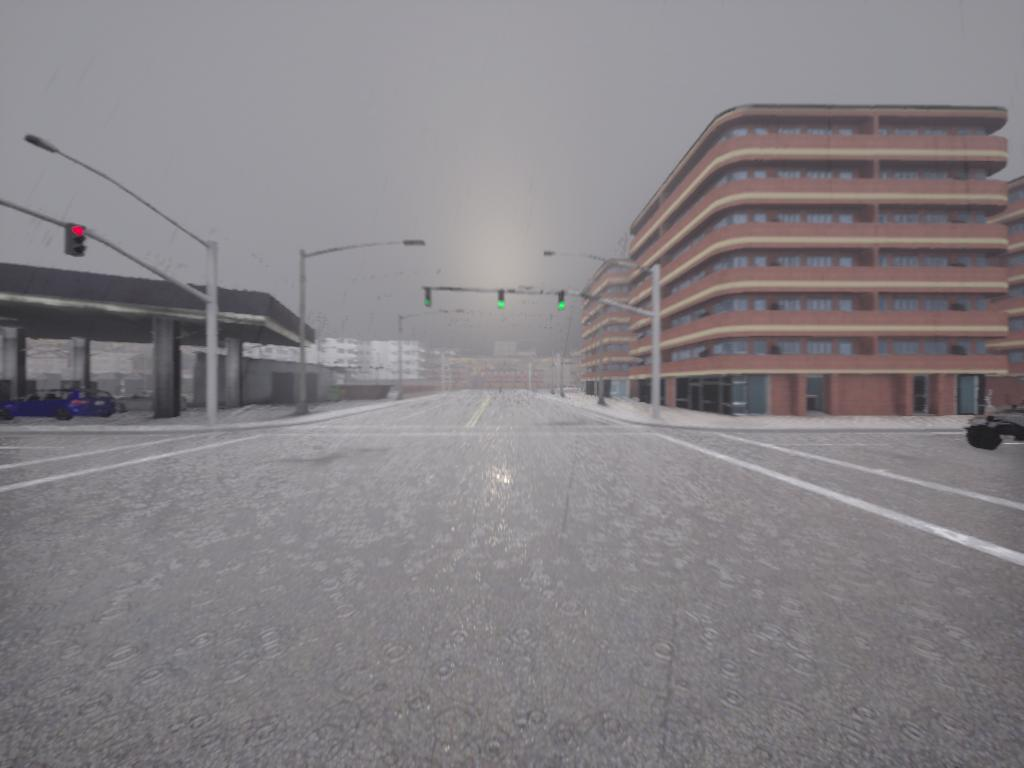traffic_light: (67, 223, 89, 256), (423, 288, 434, 309), (556, 294, 567, 311), (497, 293, 506, 309)
